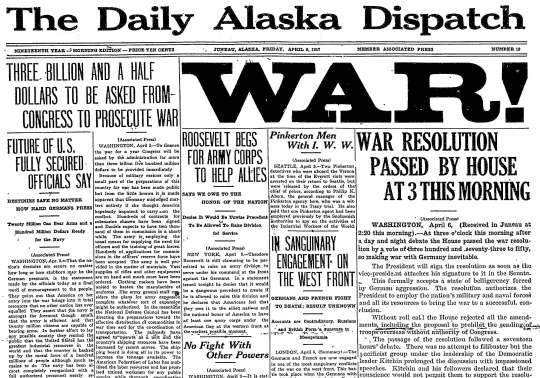latin: (180, 57, 529, 126), (3, 3, 526, 34), (356, 129, 532, 202), (4, 60, 181, 131), (270, 233, 356, 287), (4, 136, 92, 188), (181, 130, 266, 183), (269, 129, 354, 150), (183, 339, 269, 359)
